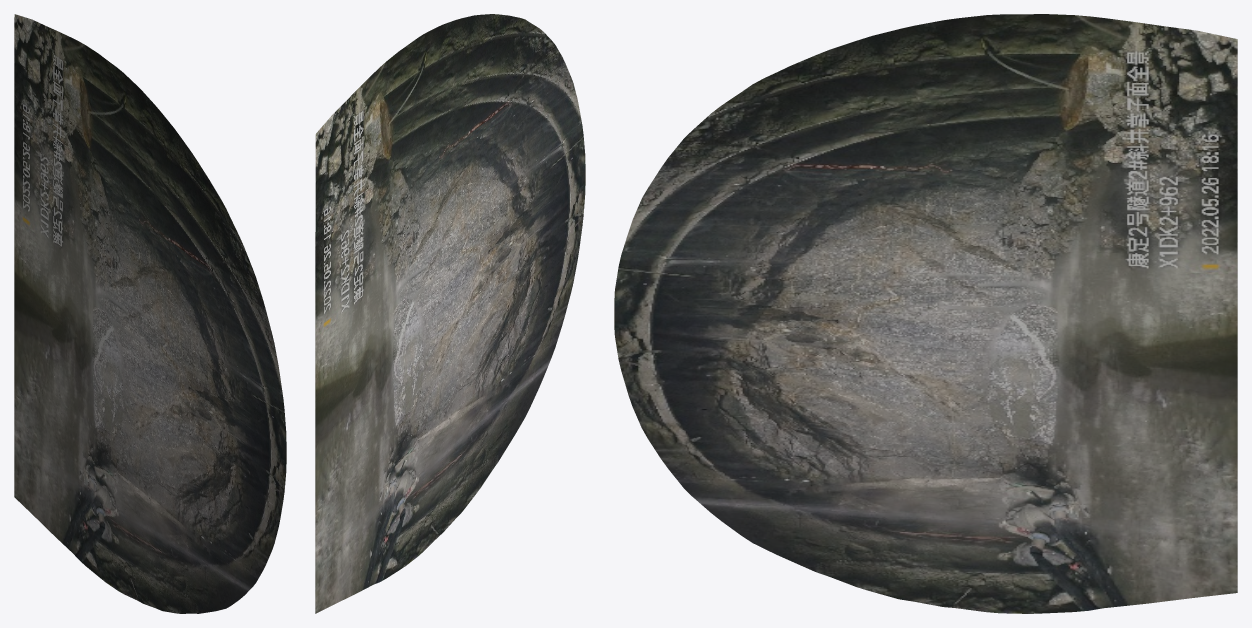
3 views of the same model, side by side, from view 1: azimuth 30°, elevation 25°; view 2: azimuth 150°, elevation 25°; view 3: azimuth 270°, elevation 25° (orthographic). The views are drawn at different scales.
Parts seen in each view (by area): view 1: Node; view 2: Node; view 3: Node.
Boxes of the visible parts, x1=… form: Node: x1=14, y1=14, x2=286, y2=613; Node: x1=315, y1=14, x2=585, y2=613; Node: x1=614, y1=14, x2=1237, y2=613.
Size of the model in its own units: 0 by 9.55 by 9.
1 material, 1 textured.
